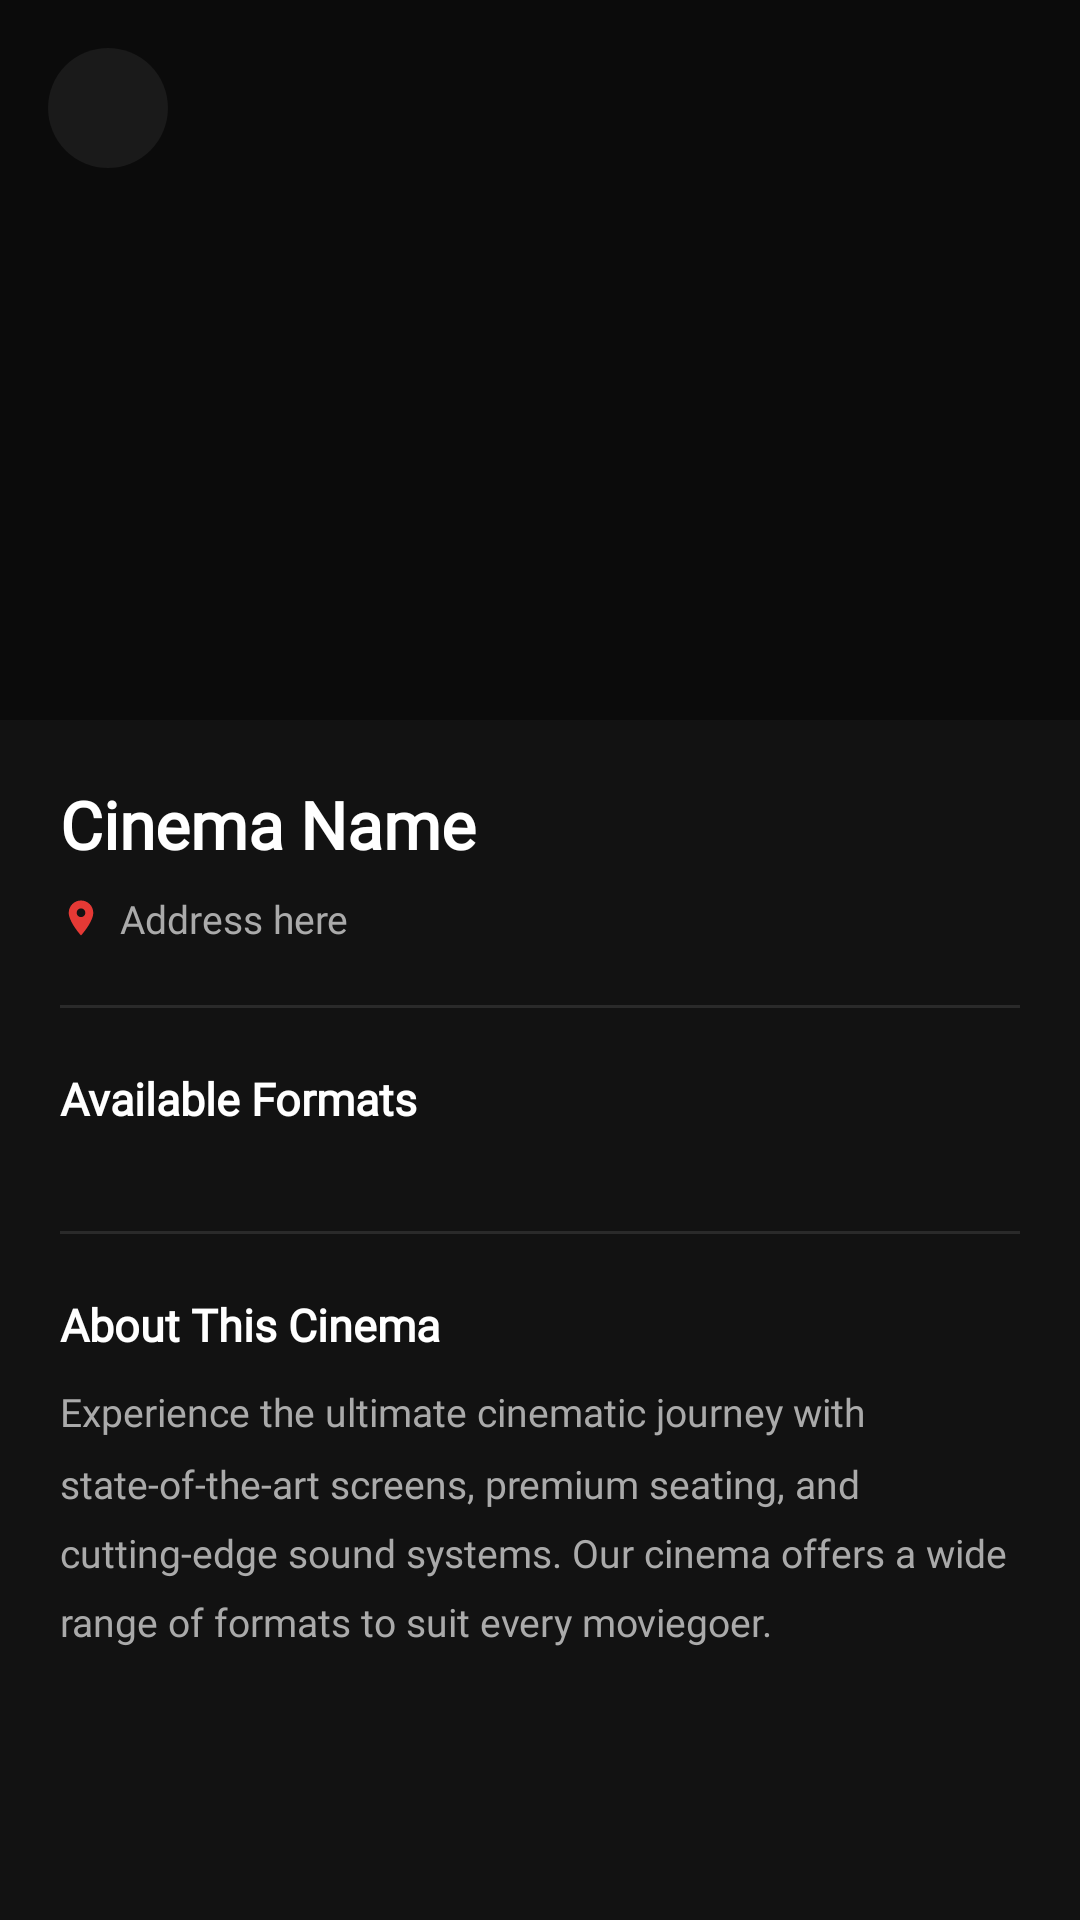

Icons on this 1080*1920 Android screen, each with the point to tap as (x=x, y=y):
location: (x=81, y=917)
